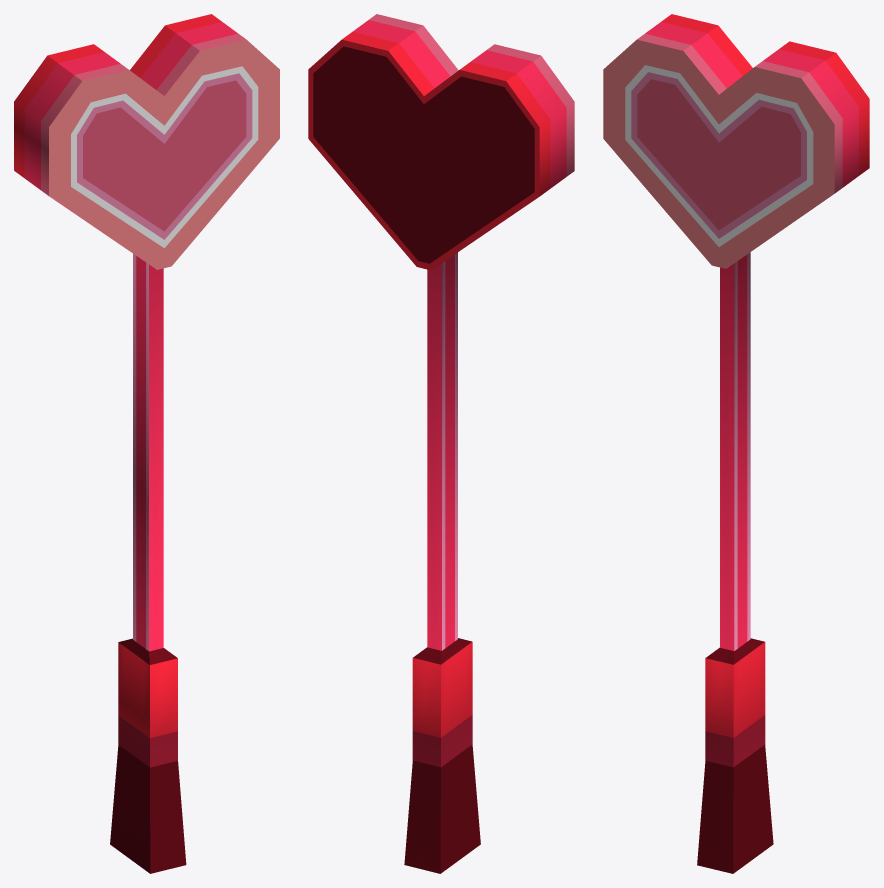
Rendered from DecoHeart.fbx.
The picture shows the model from 3 angles, left to right: view 1: azimuth 30°, elevation 25°; view 2: azimuth 150°, elevation 25°; view 3: azimuth 330°, elevation 25°; orthographic projection.
Parts seen in each view (by area): view 1: DecoHeart; view 2: DecoHeart; view 3: DecoHeart.
Part boxes in pixels (x1,y1,x2,y2): DecoHeart: (14, 14, 279, 873); DecoHeart: (308, 14, 574, 873); DecoHeart: (603, 14, 869, 873).
Size of the model in its own units: 0.3039 by 1.02 by 0.092.
